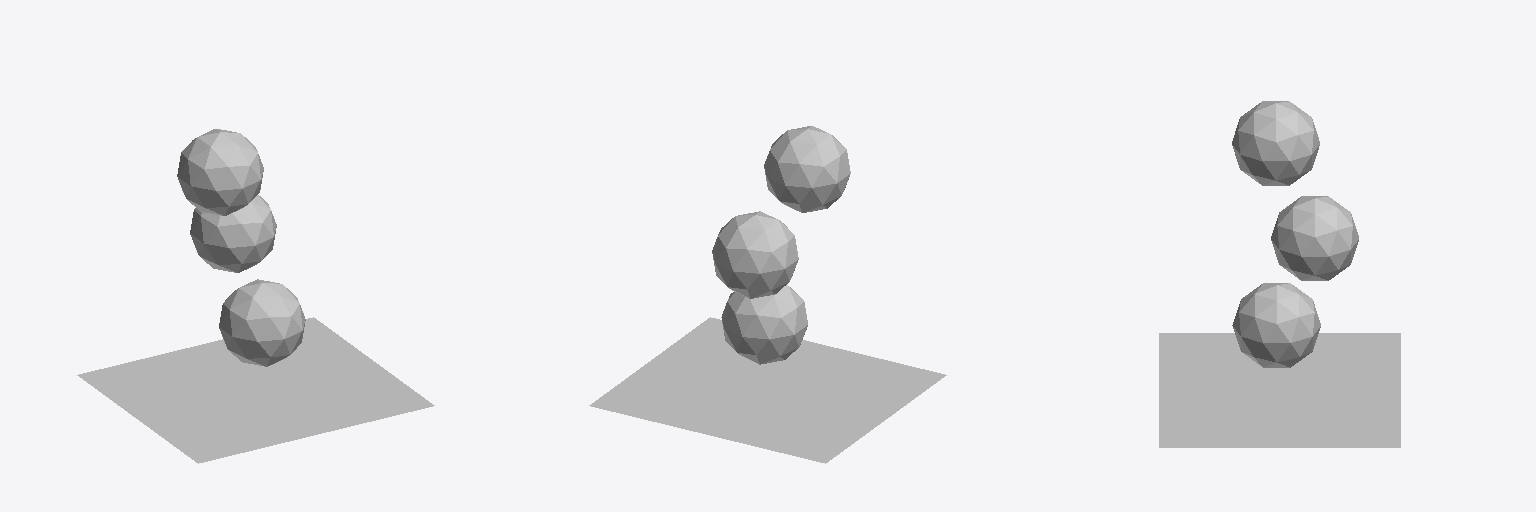
Rendered from ico.obj.
3 views of the same model, side by side, from view 1: azimuth 30°, elevation 25°; view 2: azimuth 150°, elevation 25°; view 3: azimuth 270°, elevation 25° (orthographic).
Parts seen in each view (by area): view 1: Plane, Icosphere.002, Icosphere.001, Icosphere; view 2: Plane, Icosphere, Icosphere.001, Icosphere.002; view 3: Plane, Icosphere.001, Icosphere, Icosphere.002.
Part boxes in pixels (bbox=[...]): Plane: bbox=[77, 317, 434, 463]; Icosphere.002: bbox=[219, 279, 305, 366]; Icosphere.001: bbox=[177, 129, 263, 215]; Icosphere: bbox=[190, 195, 276, 272]; Plane: bbox=[589, 317, 946, 463]; Icosphere: bbox=[712, 211, 798, 298]; Icosphere.001: bbox=[764, 126, 850, 212]; Icosphere.002: bbox=[721, 285, 807, 364]; Plane: bbox=[1159, 333, 1400, 447]; Icosphere.001: bbox=[1232, 101, 1319, 185]; Icosphere: bbox=[1271, 196, 1358, 280]; Icosphere.002: bbox=[1232, 283, 1320, 367].
Bounding box in the file's own units: 6.16 × 6.68 × 5.46.